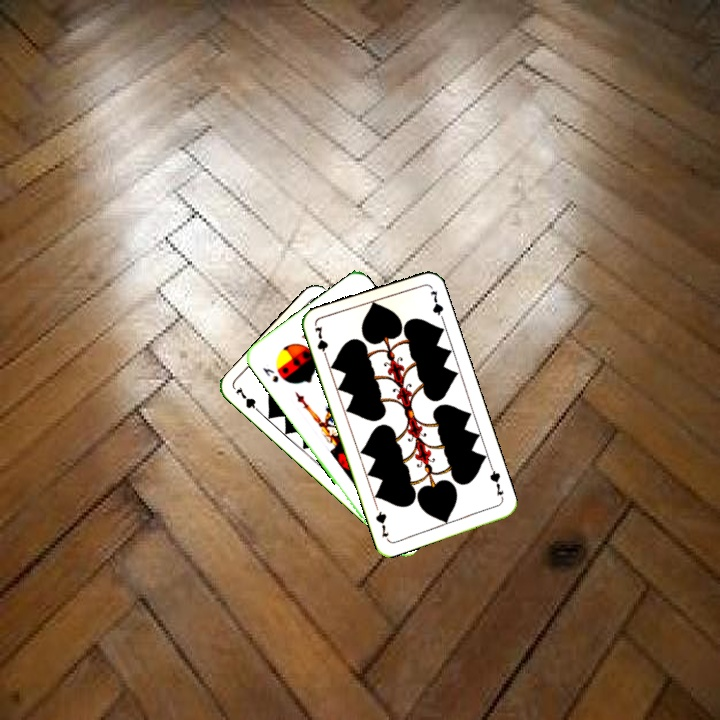G7: (231, 383, 265, 417), (311, 322, 331, 363), (486, 463, 506, 502)
SK: (258, 363, 281, 385)
